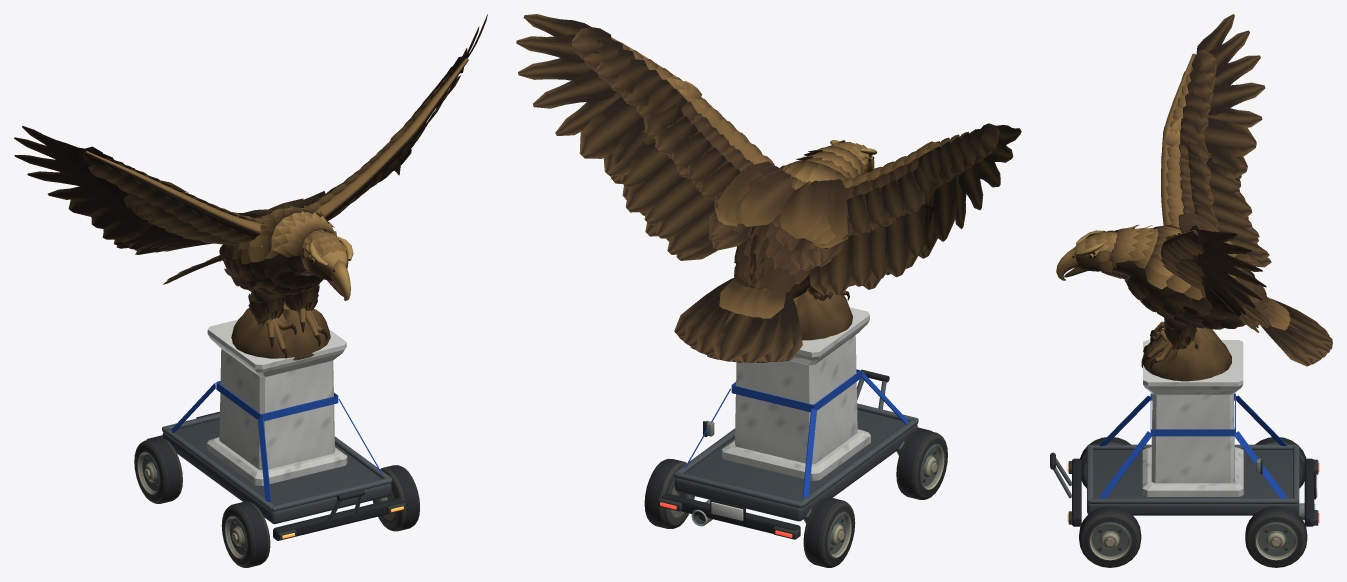
The model's file is eagle_statue.glb.
3 renders of one model, left to right at view 1: azimuth 30°, elevation 25°; view 2: azimuth 150°, elevation 25°; view 3: azimuth 270°, elevation 25°, orthographic. The views are drawn at different scales.
Parts seen in each view (by area): view 1: body, stonePlinth, carriage, wheelRR, wheelFR, wheelFL; view 2: body, carriage, stonePlinth, wheelFR, wheelRR, wheelRL; view 3: body, carriage, stonePlinth, wheelFL, wheelRL, wheelRR, wheelFR.
Boxes of the visible parts, <box> form: body: <box>14,14,487,360</box>; stonePlinth: <box>207,319,347,485</box>; carriage: <box>146,381,405,540</box>; wheelRR: <box>134,437,182,503</box>; wheelFR: <box>221,501,270,567</box>; wheelFL: <box>372,465,419,531</box>; body: <box>516,14,1021,362</box>; carriage: <box>657,369,931,539</box>; stonePlinth: <box>721,307,870,480</box>; wheelFR: <box>896,429,947,499</box>; wheelRR: <box>803,497,855,567</box>; wheelRL: <box>644,458,694,528</box>; body: <box>1056,14,1332,381</box>; carriage: <box>1050,393,1319,526</box>; stonePlinth: <box>1142,340,1243,496</box>; wheelFL: <box>1079,506,1141,567</box>; wheelRL: <box>1245,506,1307,567</box>; wheelRR: <box>1255,437,1306,488</box>; wheelFR: <box>1080,437,1130,488</box>.
Size of the model in its own units: 2.41 by 2.12 by 1.33.
